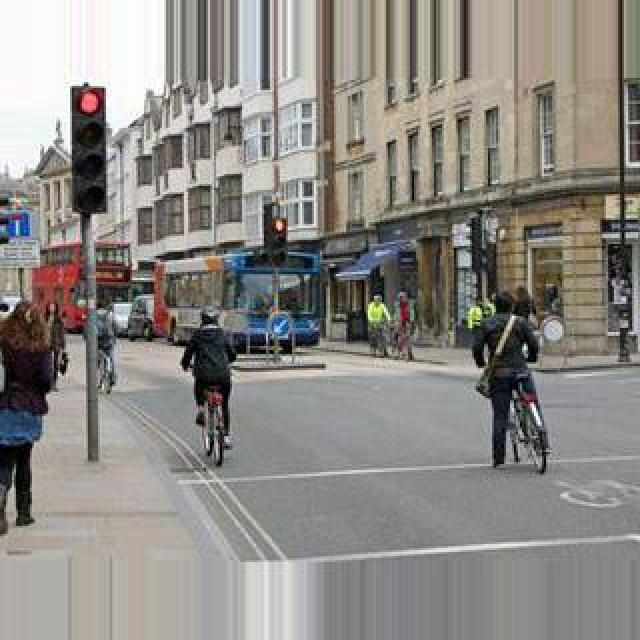Bolan-Bike: (154, 254, 320, 350), (32, 230, 132, 336)
Bus-Bike: (270, 316, 320, 350)
MC-Bike: (0, 302, 54, 536), (474, 286, 542, 464), (180, 312, 238, 446)
Person: (504, 376, 552, 474), (196, 386, 232, 470)
